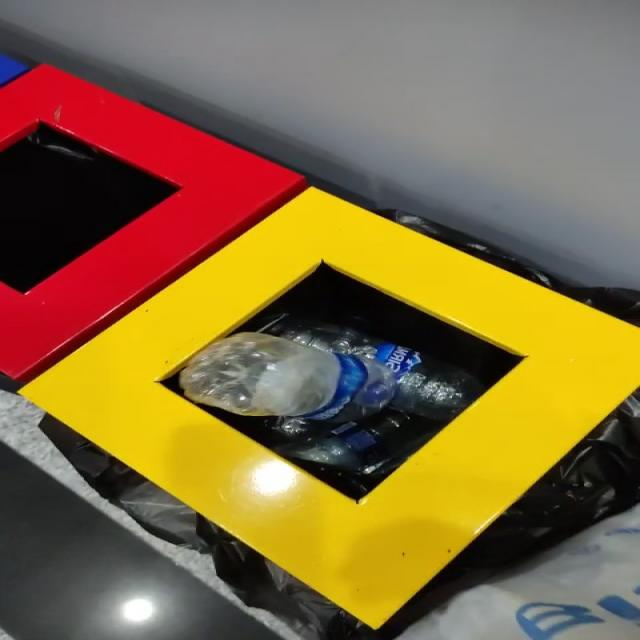plastic: (179, 332, 397, 423)
